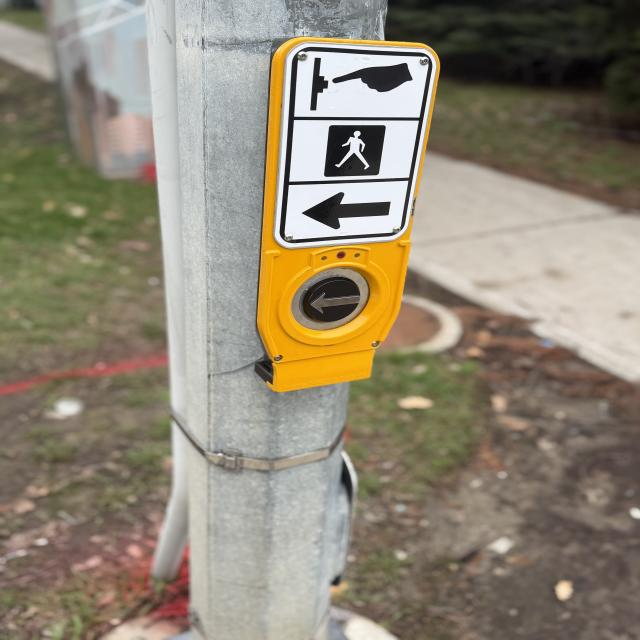Electrical Pole: (144, 3, 447, 640)
